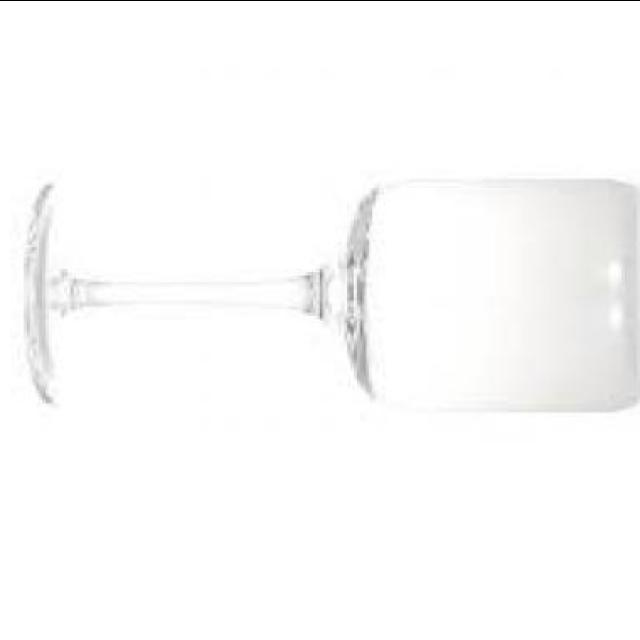kaca: (29, 175, 640, 405)
